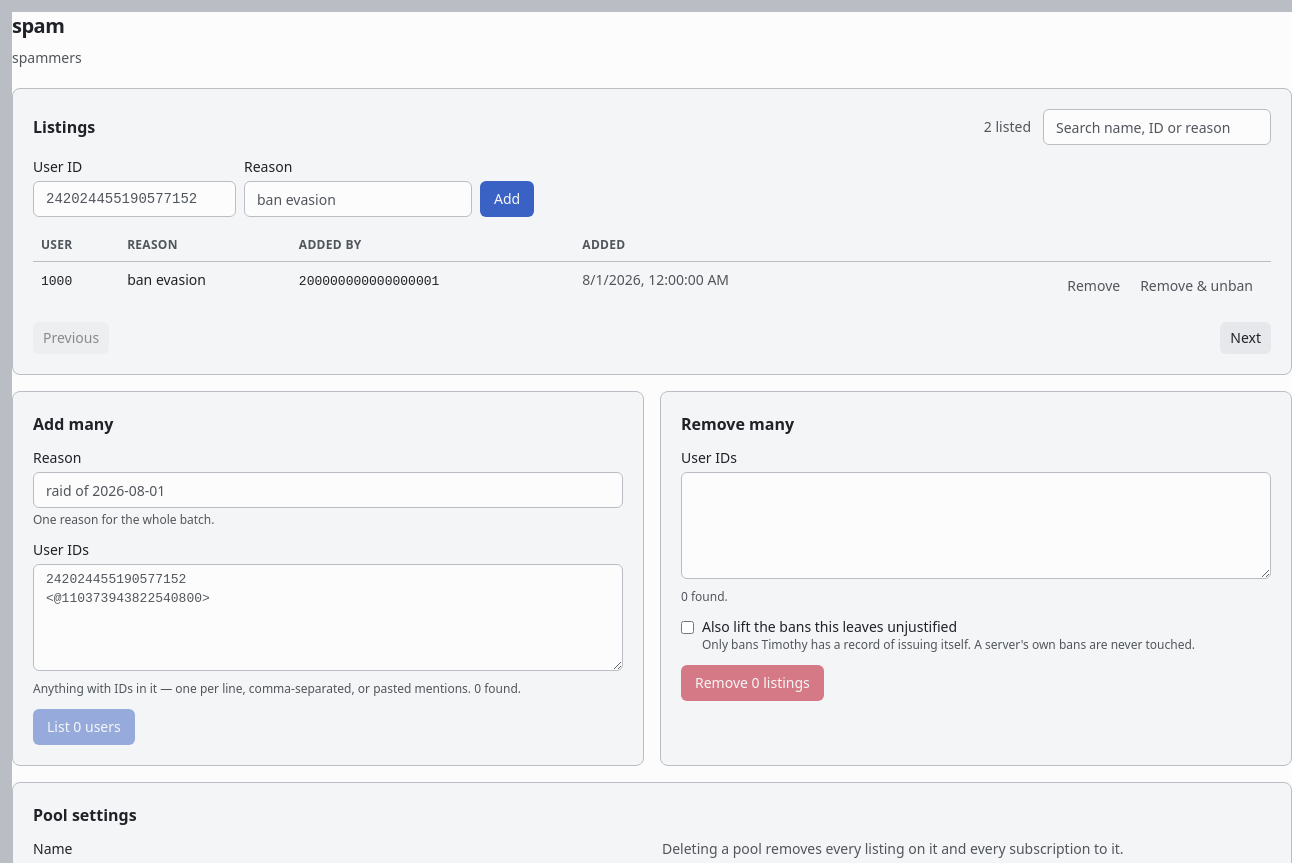
Scenario: the listing table › pages with the cursor the backend handed back
The width and height of the screenshot is (1292, 863).
Expected: the text "1000" is shown, [41,274,72,289]
Step 1. Click the button "Next" → (1246, 338), box [1220,322,1271,354]
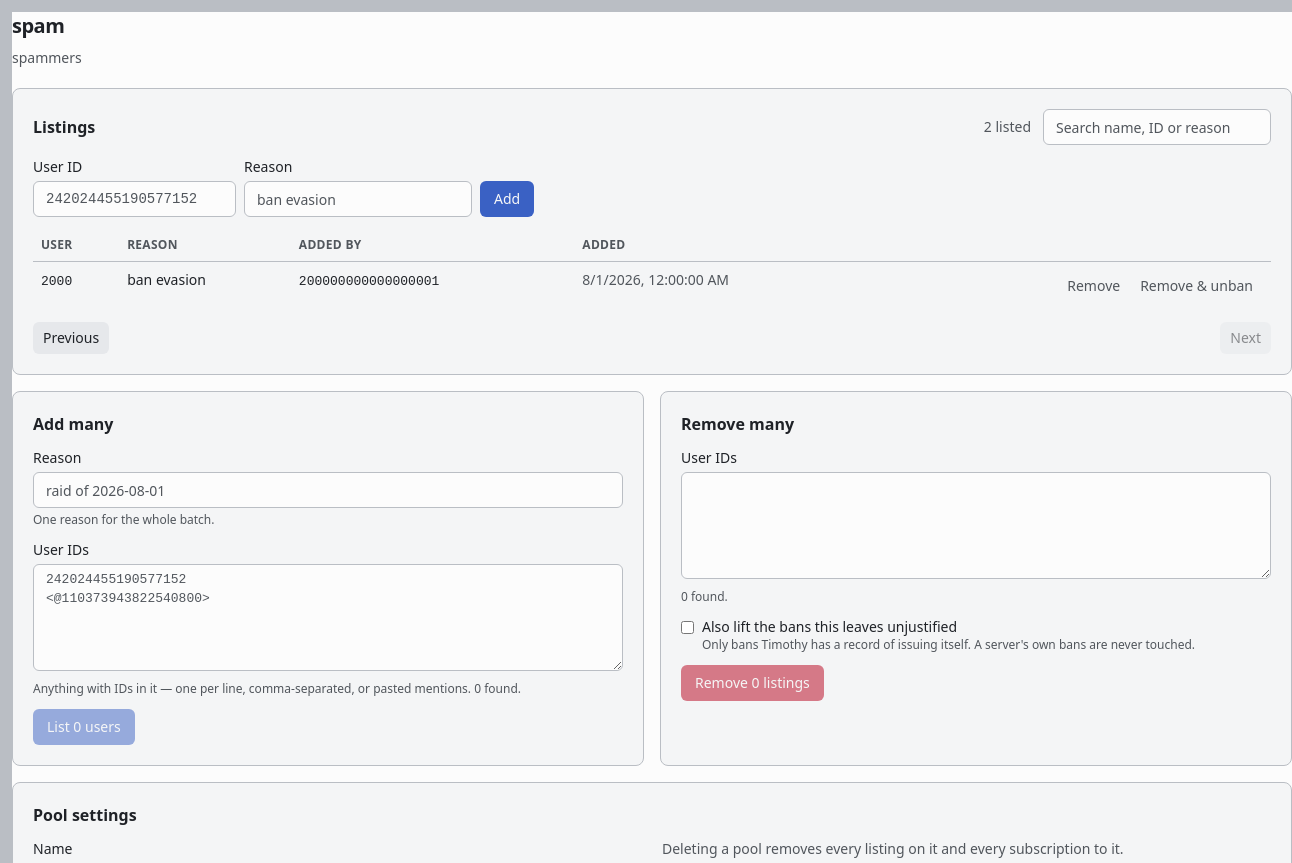
Expected: the text "2000" is shown, [41,274,72,289]
